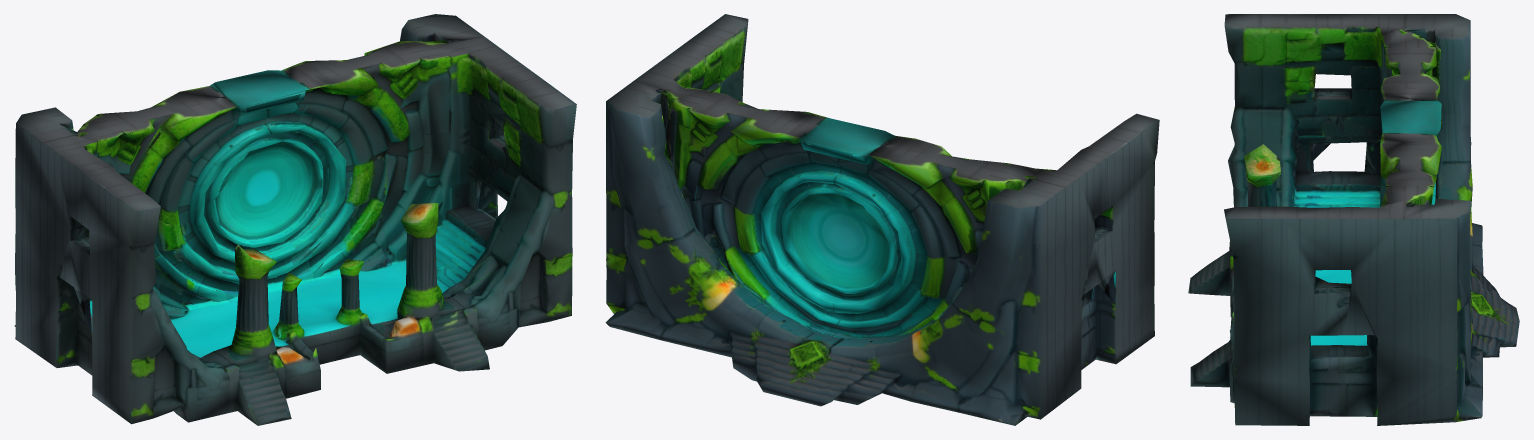
The model's file is the_abyssal_well.glb.
3 renders of one model, left to right at view 1: azimuth 30°, elevation 25°; view 2: azimuth 150°, elevation 25°; view 3: azimuth 270°, elevation 25°, orthographic. The views are drawn at different scales.
Visible parts, largest first — view 1: Mesh1.0; view 2: Mesh1.0; view 3: Mesh1.0.
Part boxes in pixels (<box>): Mesh1.0: <box>14,14,576,425</box>; Mesh1.0: <box>605,14,1159,425</box>; Mesh1.0: <box>1188,14,1519,425</box>.
Bounding box in the file's own units: 1.91 × 0.9375 × 1.3.
1 material, 1 textured.
